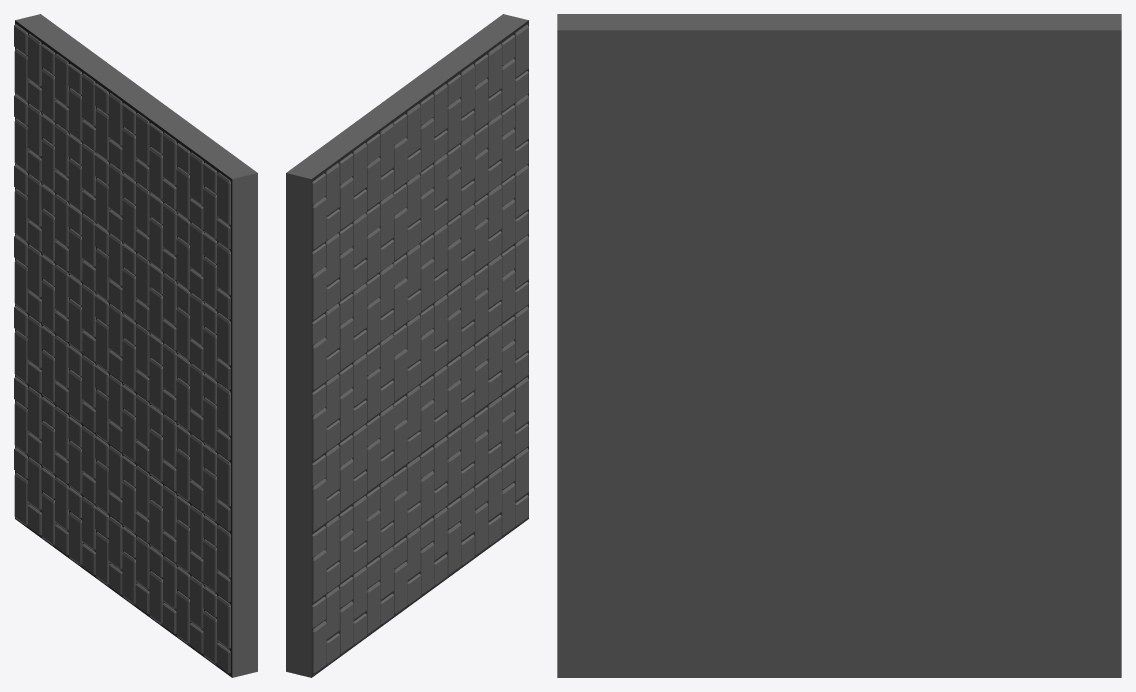
File: DungeonPlatformRotatedRight2.fbx
The picture shows the model from 3 angles, left to right: view 1: azimuth 30°, elevation 25°; view 2: azimuth 150°, elevation 25°; view 3: azimuth 270°, elevation 25°; orthographic projection. The views are drawn at different scales.
Visible parts, largest first — view 1: Cube.001; view 2: Cube.001; view 3: Cube.001.
Part boxes in pixels (x1=…): Cube.001: x1=14, y1=14, x2=257, y2=677; Cube.001: x1=286, y1=14, x2=528, y2=677; Cube.001: x1=557, y1=14, x2=1121, y2=677.
Size of the model in its own units: 328 by 416 by 24.1.
